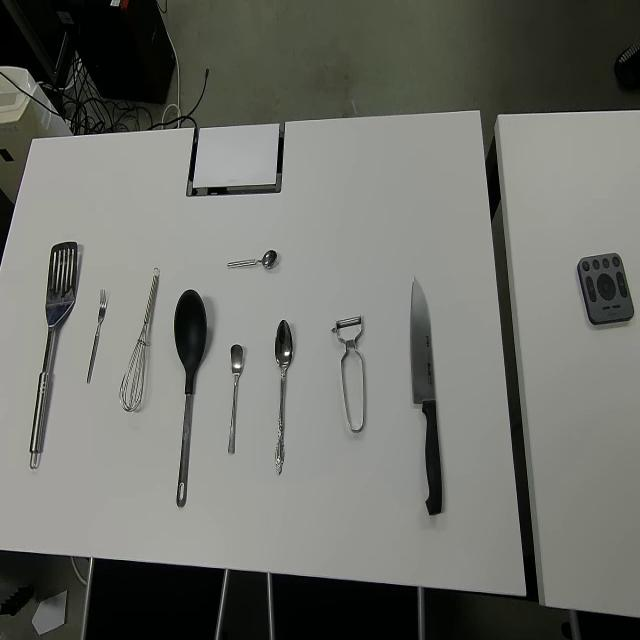Desert-Spoon: (274, 315, 294, 475)
Dinner-Fork: (86, 286, 107, 386)
Kitchen-Knife: (409, 272, 443, 514)
Peeler: (331, 311, 366, 433)
Serving-Spoon: (29, 238, 79, 470), (173, 286, 207, 509)
Tea-Spoon: (227, 341, 244, 454), (226, 246, 278, 271)
Whisk: (119, 265, 160, 413)
